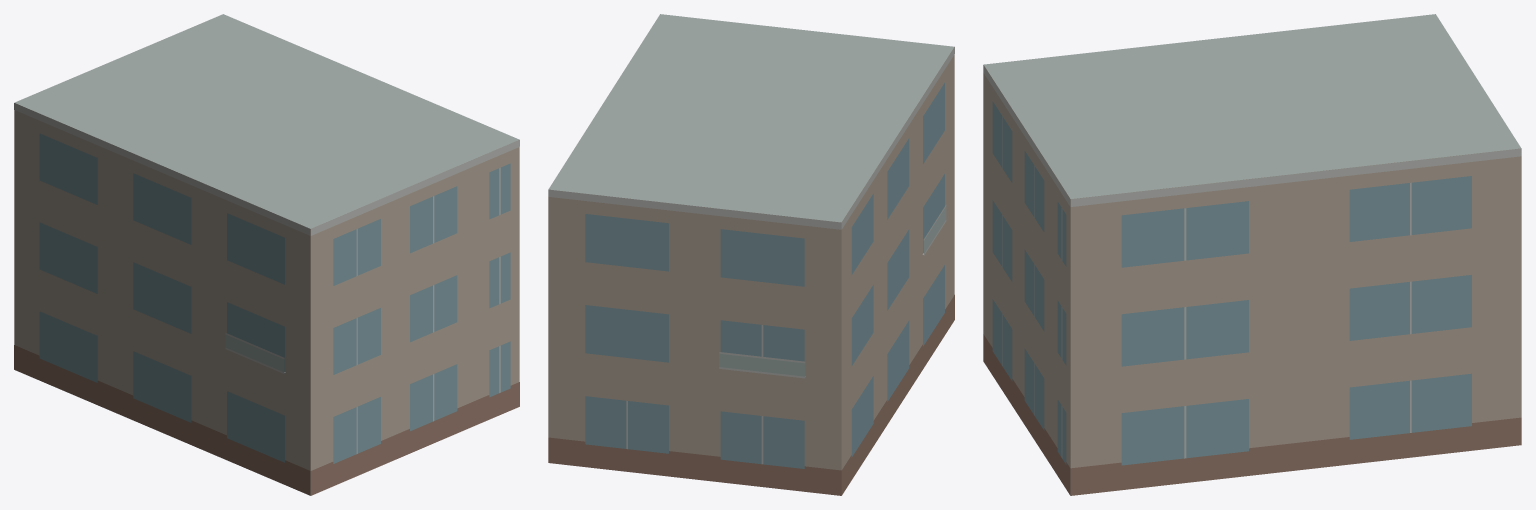
File: survey-upis-32913383.glb
The picture shows the model from 3 angles, left to right: view 1: azimuth 30°, elevation 25°; view 2: azimuth 150°, elevation 25°; view 3: azimuth 270°, elevation 25°; orthographic projection. The views are drawn at different scales.
Visible parts, largest first — view 1: survey-upis-32913383.tmp; view 2: survey-upis-32913383.tmp; view 3: survey-upis-32913383.tmp.
Boxes of the visible parts, x1,y1,x2,y2 form: survey-upis-32913383.tmp: [14, 14, 519, 495]; survey-upis-32913383.tmp: [548, 14, 954, 495]; survey-upis-32913383.tmp: [983, 14, 1521, 495].
Size of the model in its own units: 12.26 by 9.15 by 15.05.
